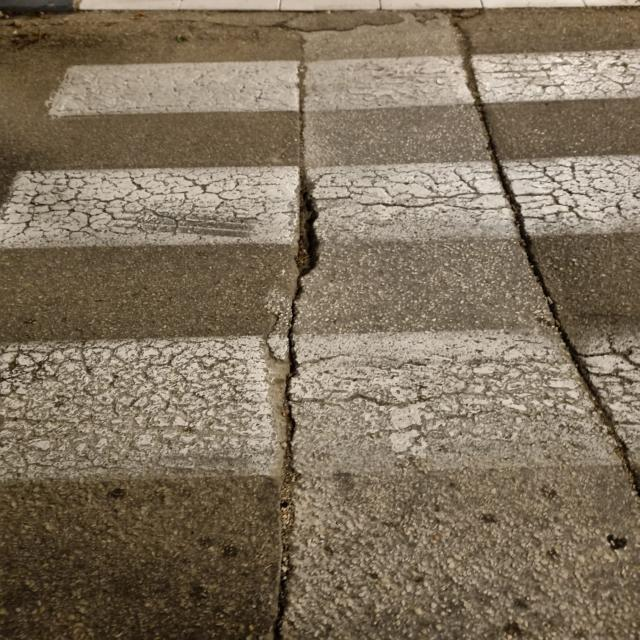medium_pothole: (290, 178, 322, 280)
minor_pothole: (258, 346, 298, 482)
